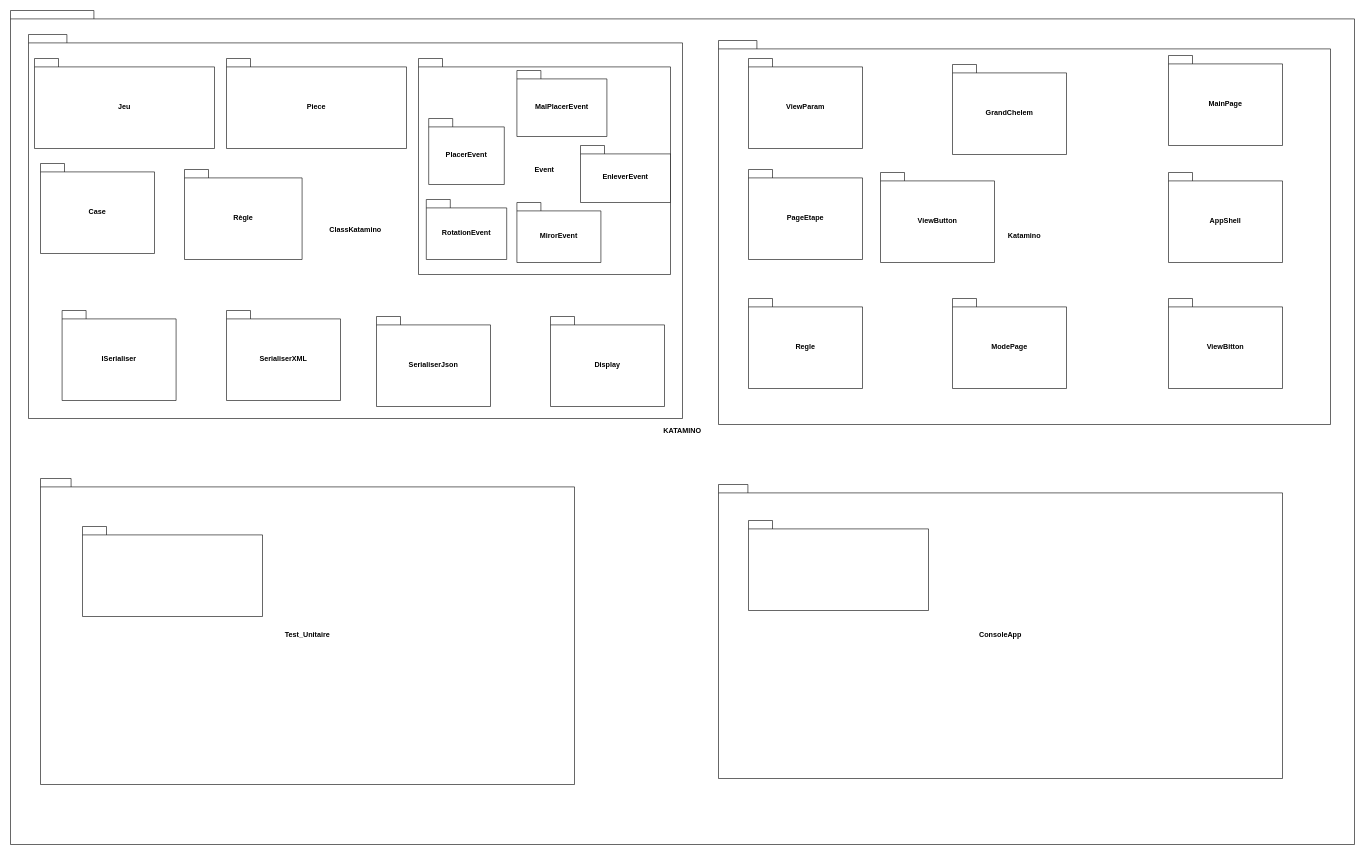
This 1365x855 diagram has some shape labels left out. Here are the shapes that lost their labels. From the top down, the centre of each, then its label:
point (172, 571): TestRègle
point (838, 565): Program
